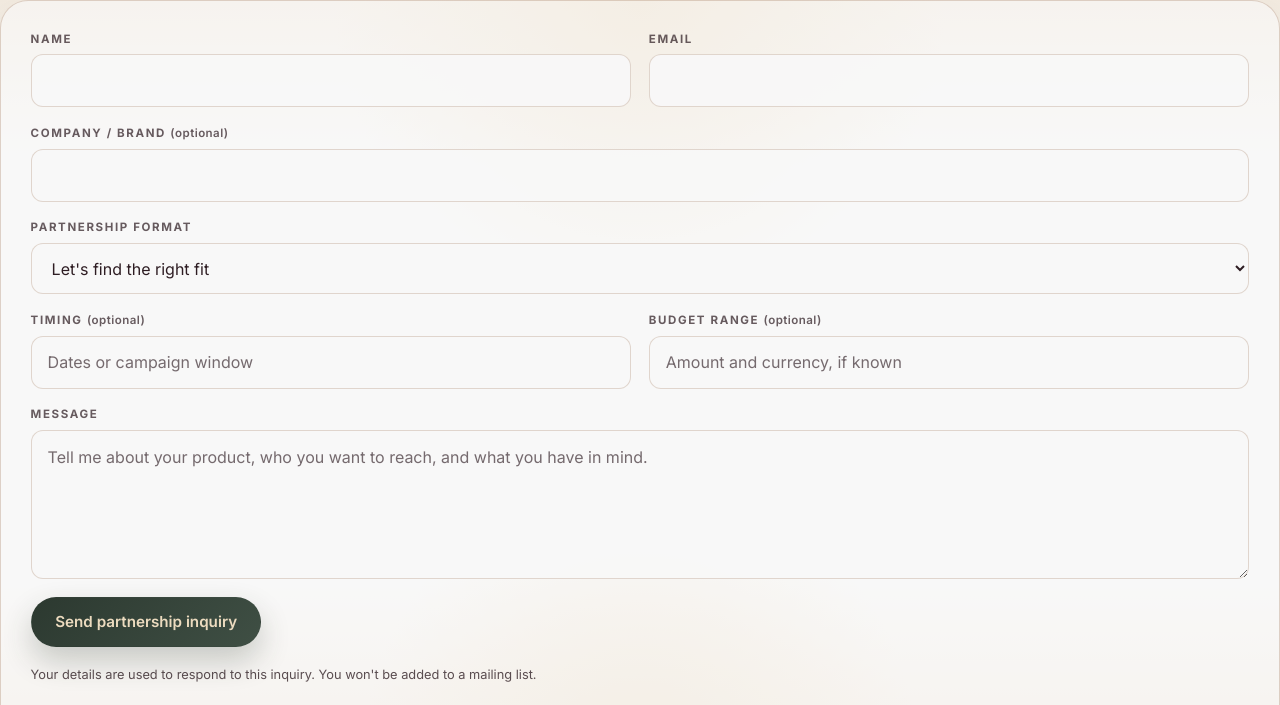
Scenario: ContactForm › shows an error when the API rejects the submission
Type "Alex Brand" into the field labelled "Name". click: (331, 81)
box: [31,54,631,108]
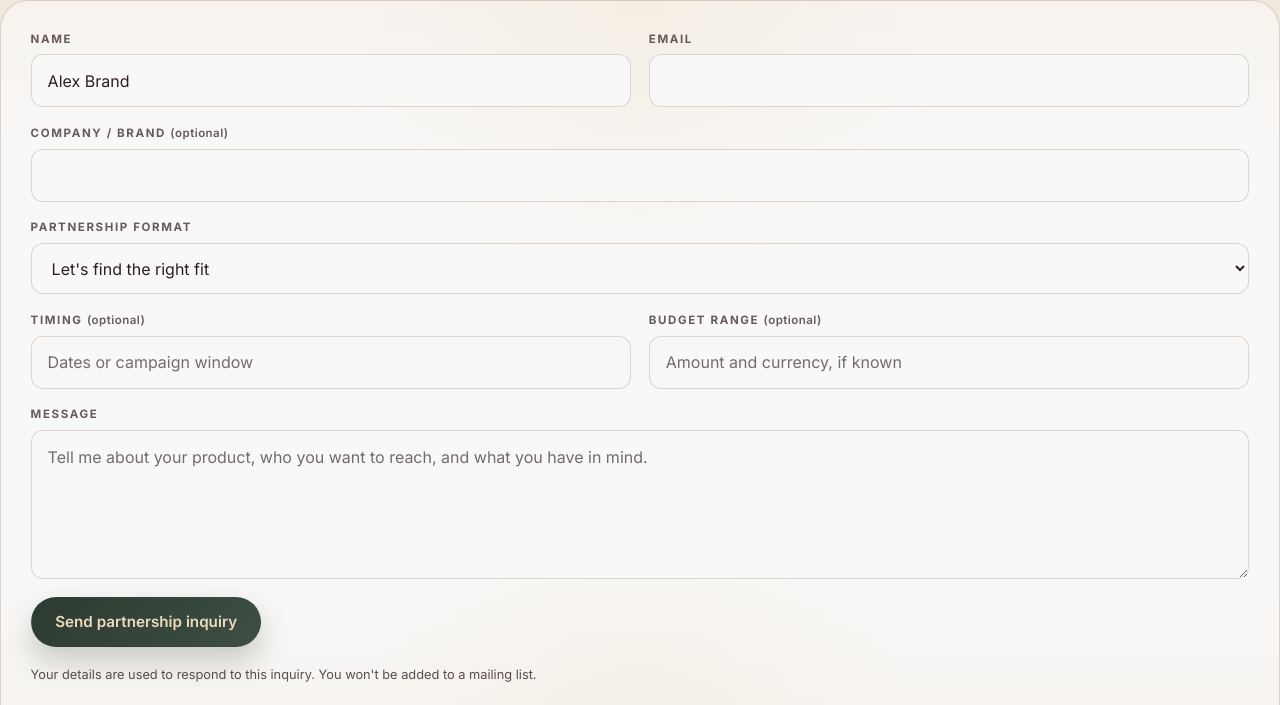
Type "alex@brand.no" into the field labelled "Email". click: (949, 81)
box: [649,54,1249,108]
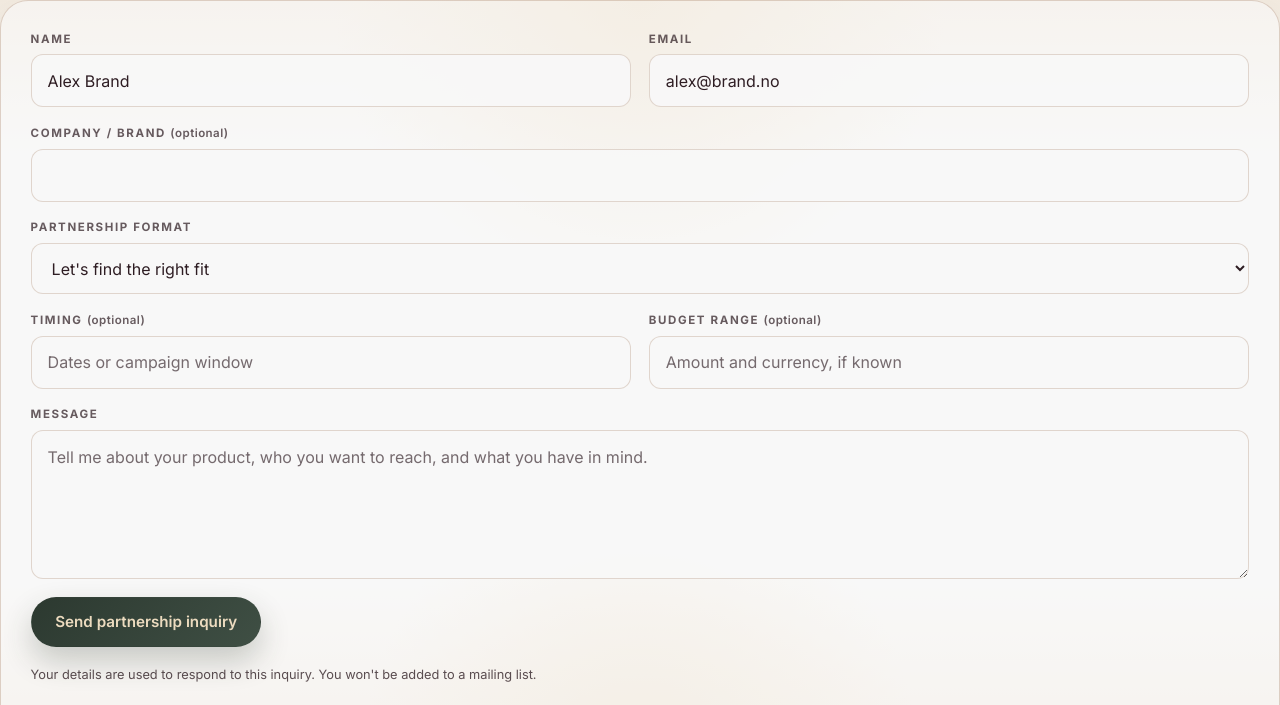
Replace the text in the text box labelled "Message" with "We would love to explore a Q3 campaign across YouTube and IG.". click: (640, 505)
box: [31,430,1249,579]
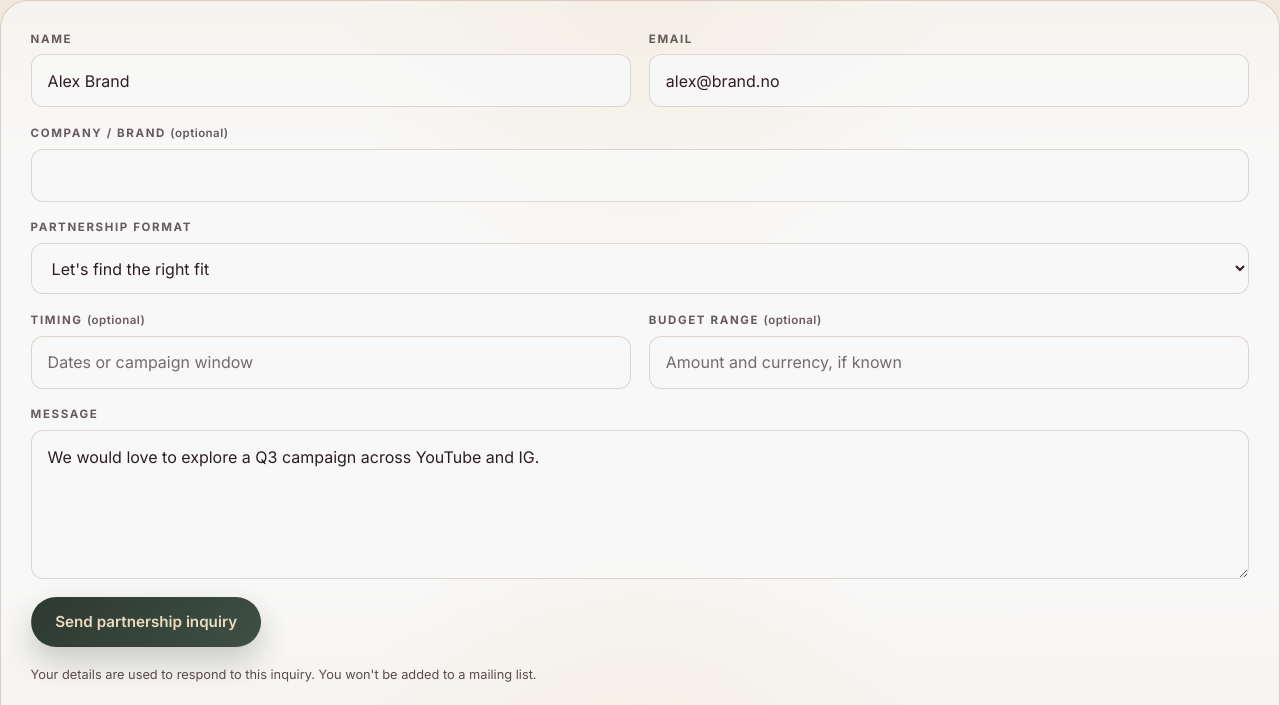
Click the button "Send partnership inquiry". click: (146, 622)
box: [31,597,261,647]
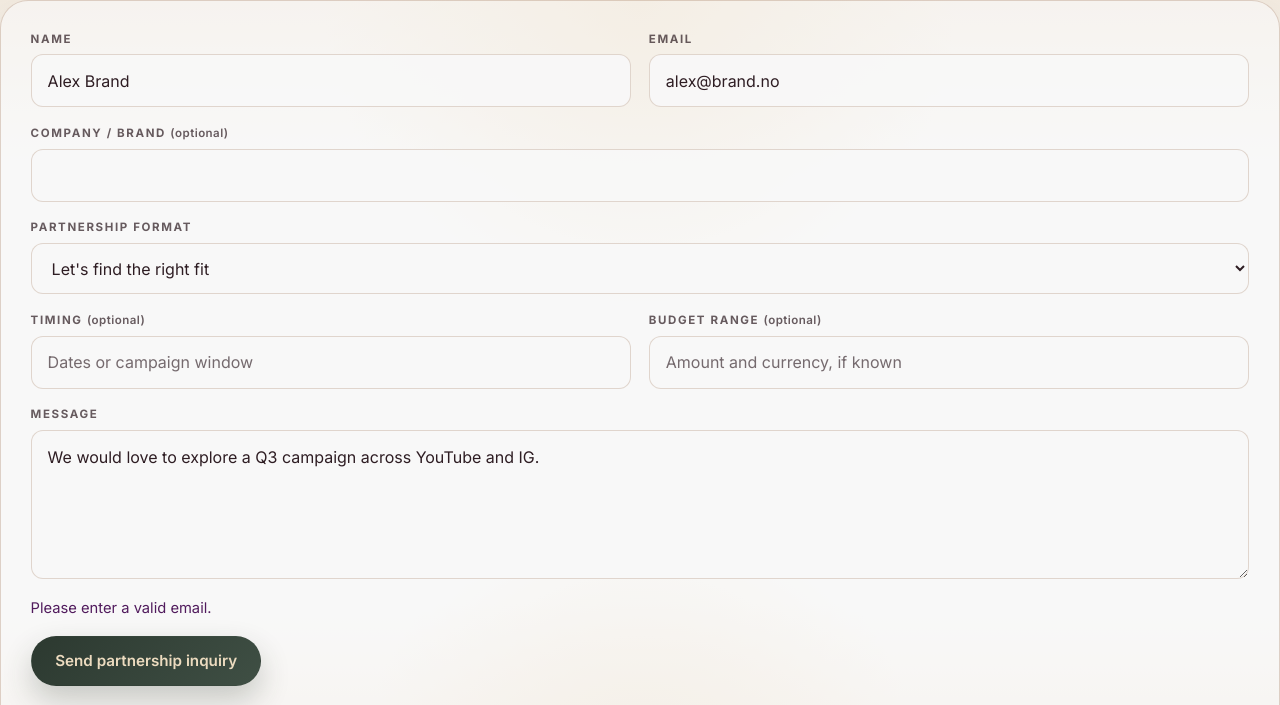
Now the message reads "Please enter a valid email.", box [31,599,212,617]
